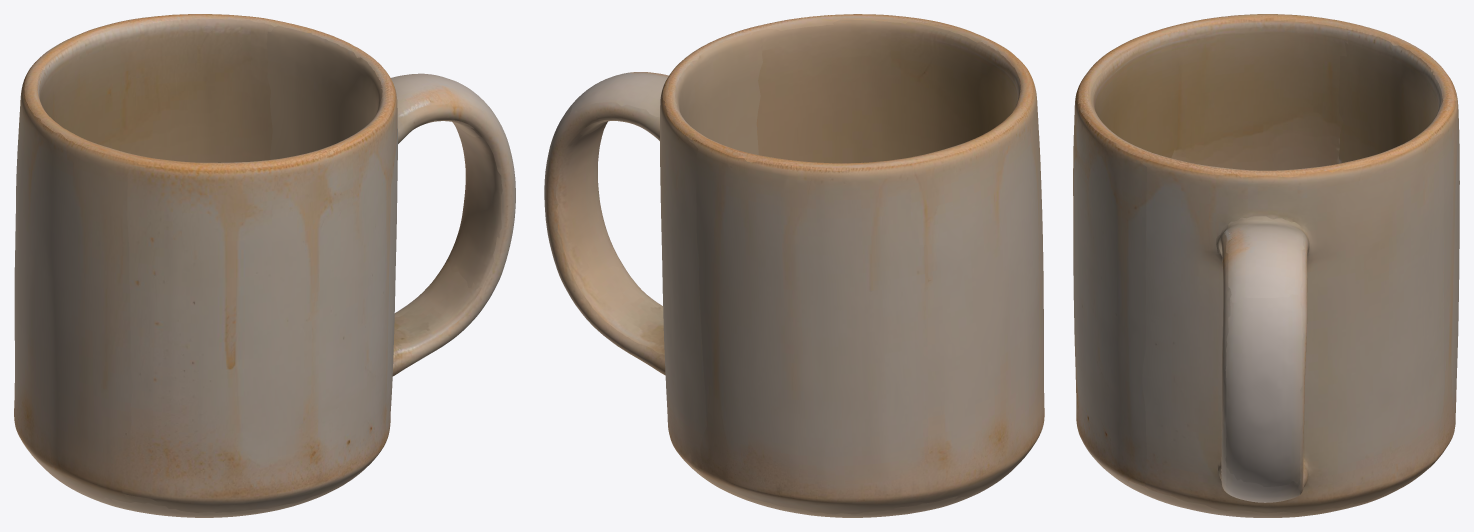
The model's file is mug.glb.
3 renders of one model, left to right at view 1: azimuth 30°, elevation 25°; view 2: azimuth 150°, elevation 25°; view 3: azimuth 270°, elevation 25°, orthographic.
Parts seen in each view (by area): view 1: textured_mesh.obj; view 2: textured_mesh.obj; view 3: textured_mesh.obj.
Part boxes in pixels (box(x1,y1,x2,y2)): textured_mesh.obj: box(14, 14, 515, 517); textured_mesh.obj: box(544, 14, 1044, 517); textured_mesh.obj: box(1073, 14, 1459, 517).
Size of the model in its own units: 1.99 by 1.52 by 1.44.
Materials: 1 (1 with a texture image).
